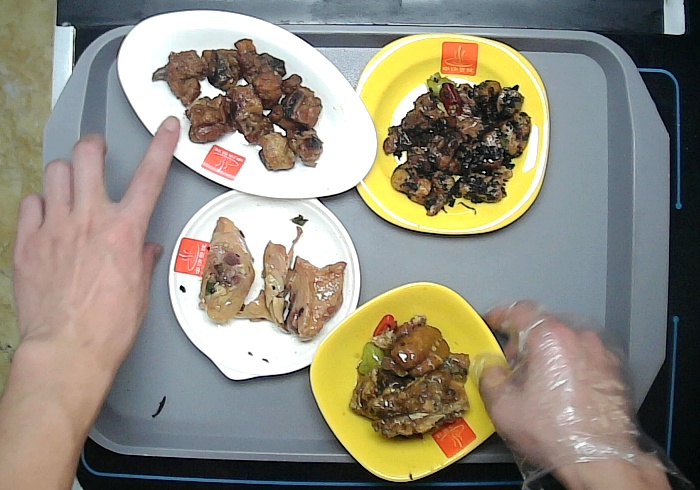SHKJ-Bao_Yu_Pan: (167, 181, 360, 383)
SHKJ-Huang_Se_Cai_Die: (308, 281, 515, 480)
SHKJ-Huang_Se_Si_Fang_Cai_Die: (350, 32, 549, 238)
SHKJ-Yu_Pan: (117, 9, 378, 200)
